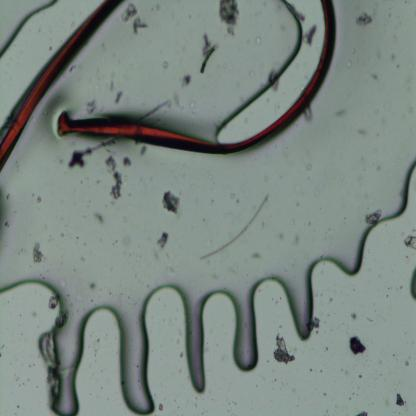Air bubble: (0, 159, 416, 415), (213, 1, 325, 142), (0, 1, 58, 64)
Background material: (201, 190, 271, 260), (66, 137, 121, 168), (0, 184, 23, 238), (197, 34, 220, 78), (270, 334, 296, 367), (218, 1, 240, 38), (140, 100, 172, 124), (106, 156, 123, 198), (160, 190, 181, 214), (345, 334, 367, 356), (303, 20, 317, 48), (407, 264, 416, 303), (112, 85, 129, 104), (120, 2, 137, 20), (354, 14, 374, 29), (30, 241, 44, 262), (332, 104, 350, 120), (131, 16, 147, 34), (85, 274, 101, 292), (82, 97, 97, 116), (136, 140, 150, 160), (155, 230, 169, 248), (364, 211, 380, 226), (394, 390, 406, 408), (405, 233, 416, 251), (367, 70, 381, 84), (96, 210, 106, 229), (160, 61, 176, 72), (181, 74, 193, 88), (32, 189, 43, 204), (356, 127, 369, 139), (122, 156, 132, 166)
Microfibre: (58, 0, 338, 162), (0, 0, 124, 169)
